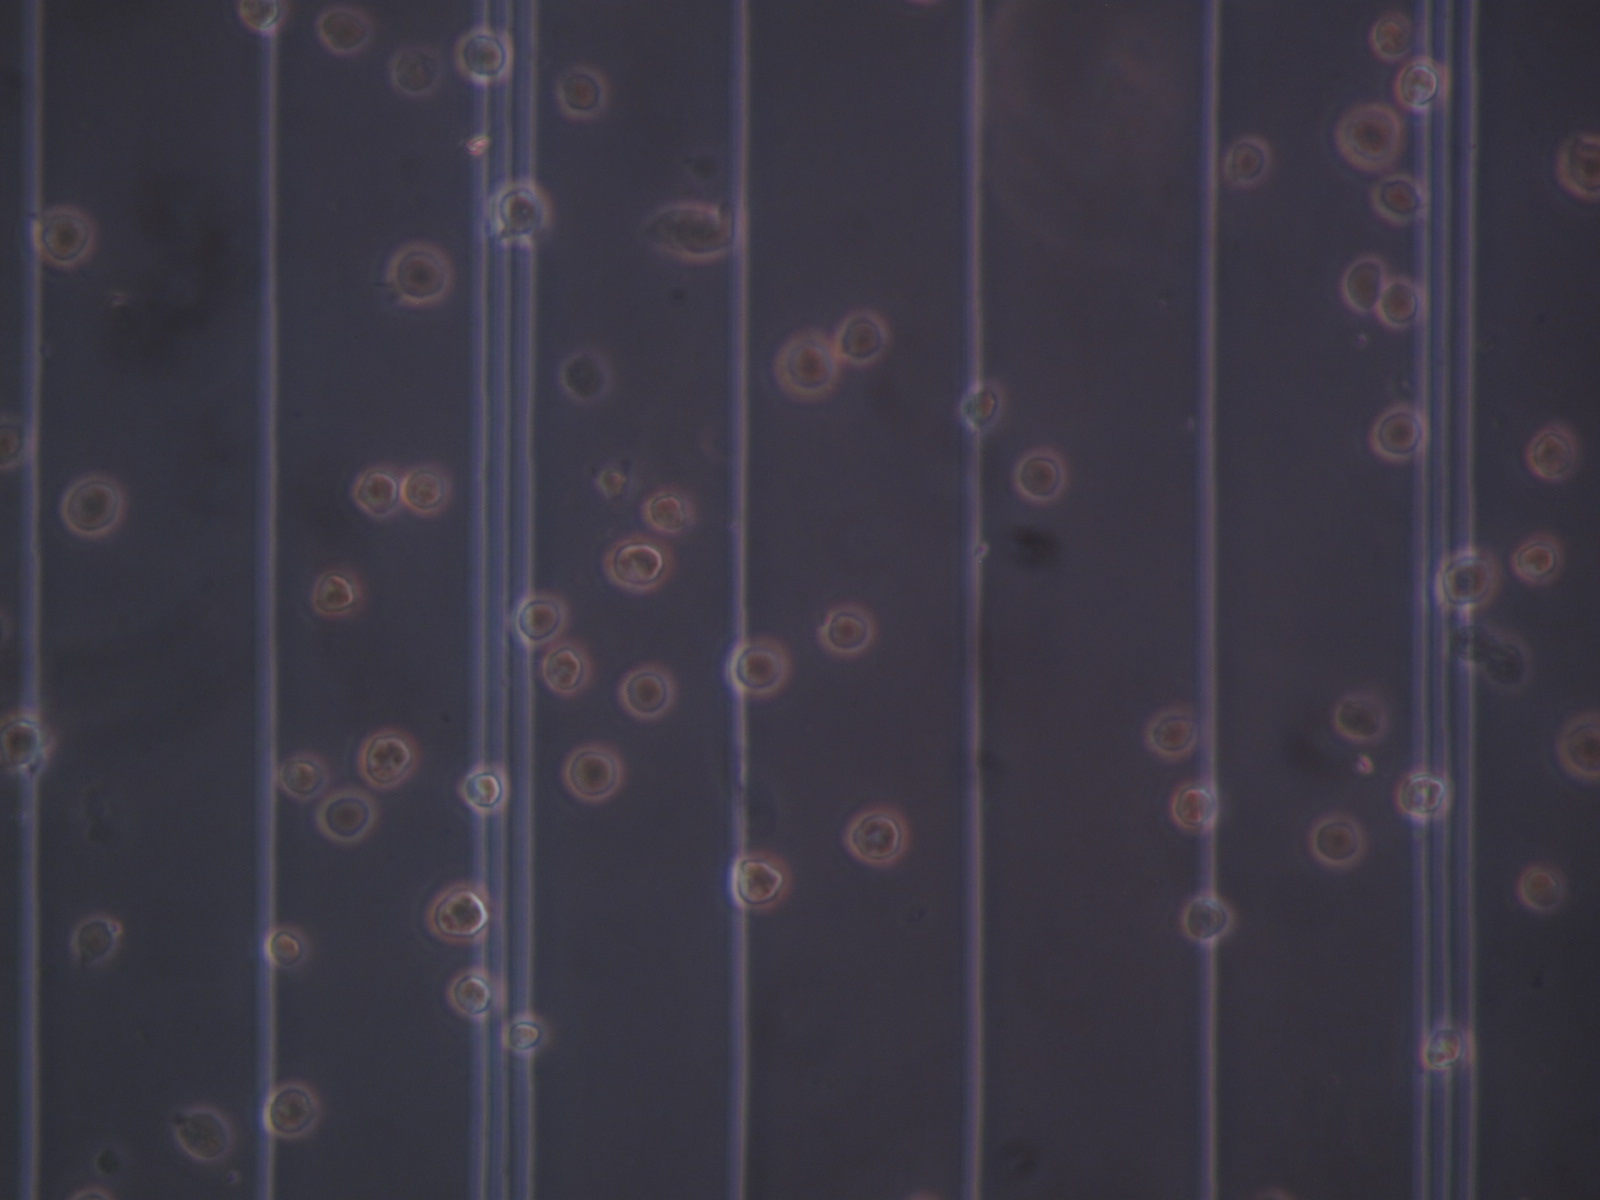hemo: (643, 202, 738, 265), (771, 326, 842, 400), (1334, 102, 1403, 170), (59, 469, 125, 539), (384, 241, 452, 306), (603, 536, 677, 596), (357, 725, 420, 793), (31, 203, 97, 267), (425, 880, 491, 943), (844, 805, 910, 868), (1435, 546, 1497, 613), (489, 180, 551, 247), (729, 850, 792, 914), (562, 741, 625, 804), (314, 788, 378, 848), (726, 638, 791, 697), (262, 1078, 320, 1141), (1369, 403, 1430, 463), (1, 712, 57, 775), (1306, 812, 1366, 870), (617, 664, 677, 722), (1393, 765, 1451, 823), (833, 310, 891, 368), (455, 26, 513, 84), (1556, 713, 1600, 787), (175, 1105, 232, 1162), (1509, 529, 1565, 587), (1178, 891, 1237, 945), (816, 603, 876, 657), (1395, 55, 1449, 113), (513, 591, 567, 649), (1488, 628, 1536, 692), (540, 640, 593, 698), (1330, 692, 1390, 744), (1416, 1020, 1475, 1071), (1369, 174, 1430, 224), (457, 760, 511, 816), (1556, 134, 1600, 202), (349, 464, 402, 521), (1013, 449, 1067, 503), (312, 565, 365, 620), (67, 915, 122, 968), (446, 967, 503, 1018), (556, 63, 606, 121), (559, 349, 611, 405), (1340, 252, 1385, 315), (1524, 427, 1577, 479), (402, 463, 454, 516), (317, 6, 372, 57), (1221, 134, 1270, 189), (388, 48, 443, 97), (1376, 275, 1422, 332), (278, 751, 330, 800), (1143, 711, 1197, 758), (1516, 862, 1565, 913), (1444, 621, 1494, 671), (501, 1008, 551, 1058), (959, 379, 1003, 434), (261, 923, 309, 972), (1170, 783, 1217, 832), (645, 490, 695, 534), (1369, 28, 1416, 63), (237, 1, 289, 32), (1, 413, 26, 470), (597, 466, 627, 498)
